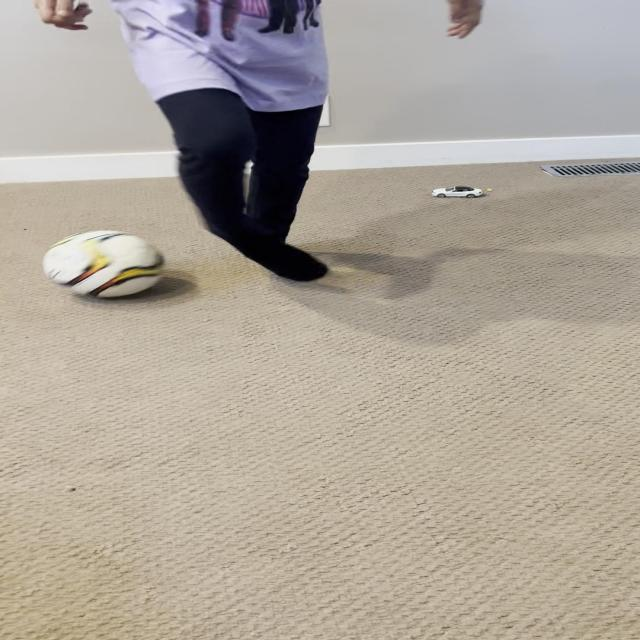Soccer Ball: (44, 229, 165, 298)
